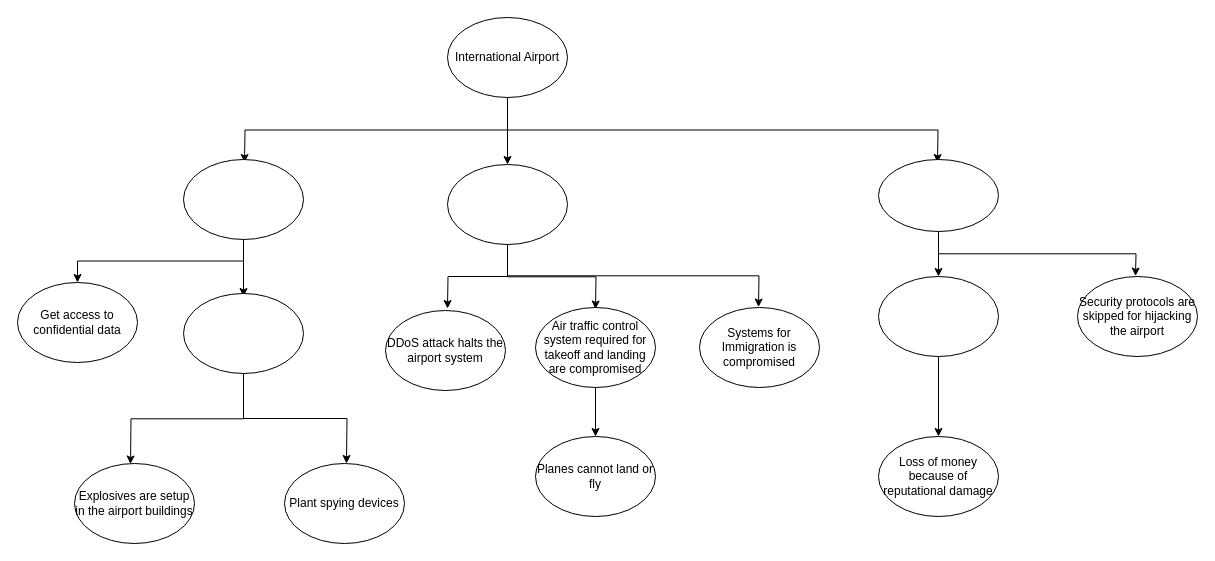
This 1215x561 diagram has some shape labels left out. Each missing label, with the centre of its shape:
Airport is brought to halt: the point at 507,204
Gain privileged access: the point at 243,199
Go to restricted areas: the point at 243,333
Insider attack: the point at 938,195
Valuable information is leaked: the point at 938,316
